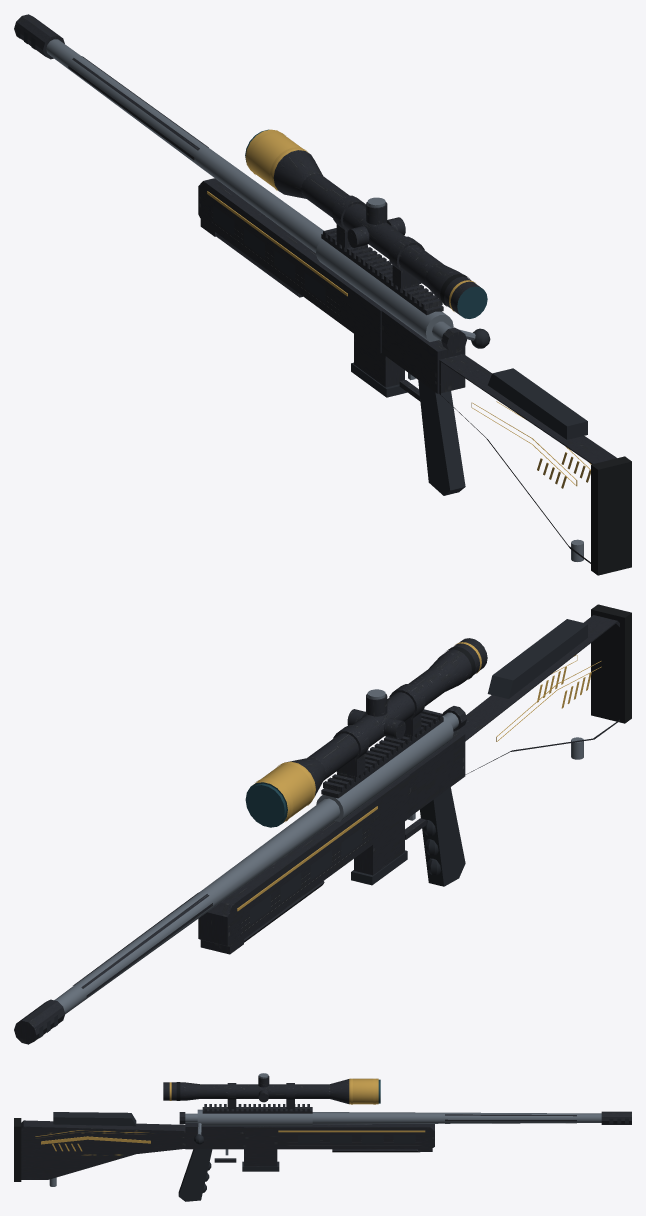
3 views of the same model, one above another, from view 1: azimuth 30°, elevation 25°; view 2: azimuth 150°, elevation 25°; view 3: azimuth 270°, elevation 25° (orthographic). The views are drawn at different scales.
Visible parts, largest first — view 1: sniper, mag, bolt; view 2: sniper, mag; view 3: sniper, mag, bolt.
Boxes of the visible parts, x1,y1,x2,y2 form: sniper: (14, 14, 631, 575); mag: (351, 334, 407, 397); bolt: (432, 321, 490, 352); sniper: (14, 604, 631, 1044); mag: (351, 821, 407, 885); sniper: (14, 1073, 631, 1201); mag: (242, 1149, 279, 1171); bolt: (179, 1112, 203, 1144).
Size of the model in its own units: 0.0928 by 0.281 by 1.26.
Materials: 7 (1 with a texture image).
